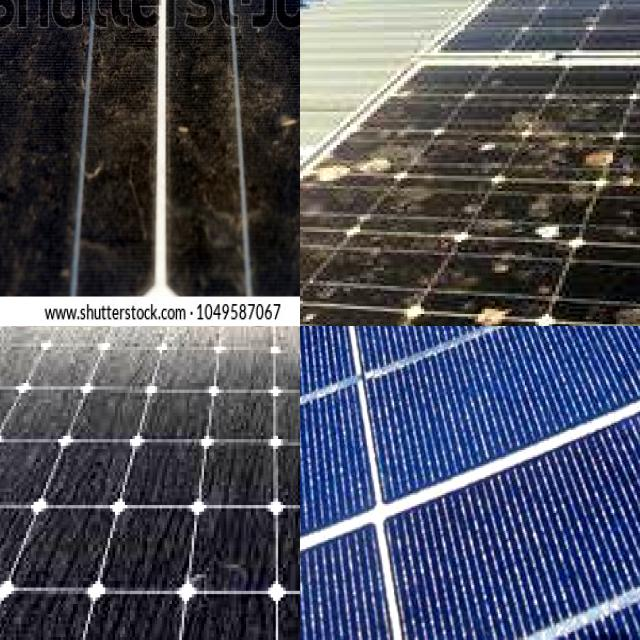bird: (486, 105, 640, 157), (300, 154, 407, 183), (447, 297, 534, 326), (453, 297, 536, 326), (512, 220, 594, 240), (602, 297, 640, 326)
crack: (300, 326, 640, 640)
dust: (173, 0, 288, 283), (0, 0, 63, 294), (128, 441, 254, 576), (10, 0, 159, 102), (0, 437, 101, 573), (101, 0, 146, 277), (179, 0, 300, 96), (122, 371, 283, 435), (0, 0, 34, 287), (0, 0, 65, 98), (171, 0, 300, 37), (50, 326, 121, 392), (148, 326, 220, 385), (109, 326, 291, 348), (96, 591, 175, 640), (0, 0, 110, 32), (3, 589, 71, 640), (192, 596, 266, 640), (0, 326, 93, 354), (0, 326, 35, 367)
